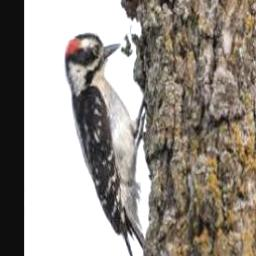Woodpecker: (63, 33, 146, 256)
